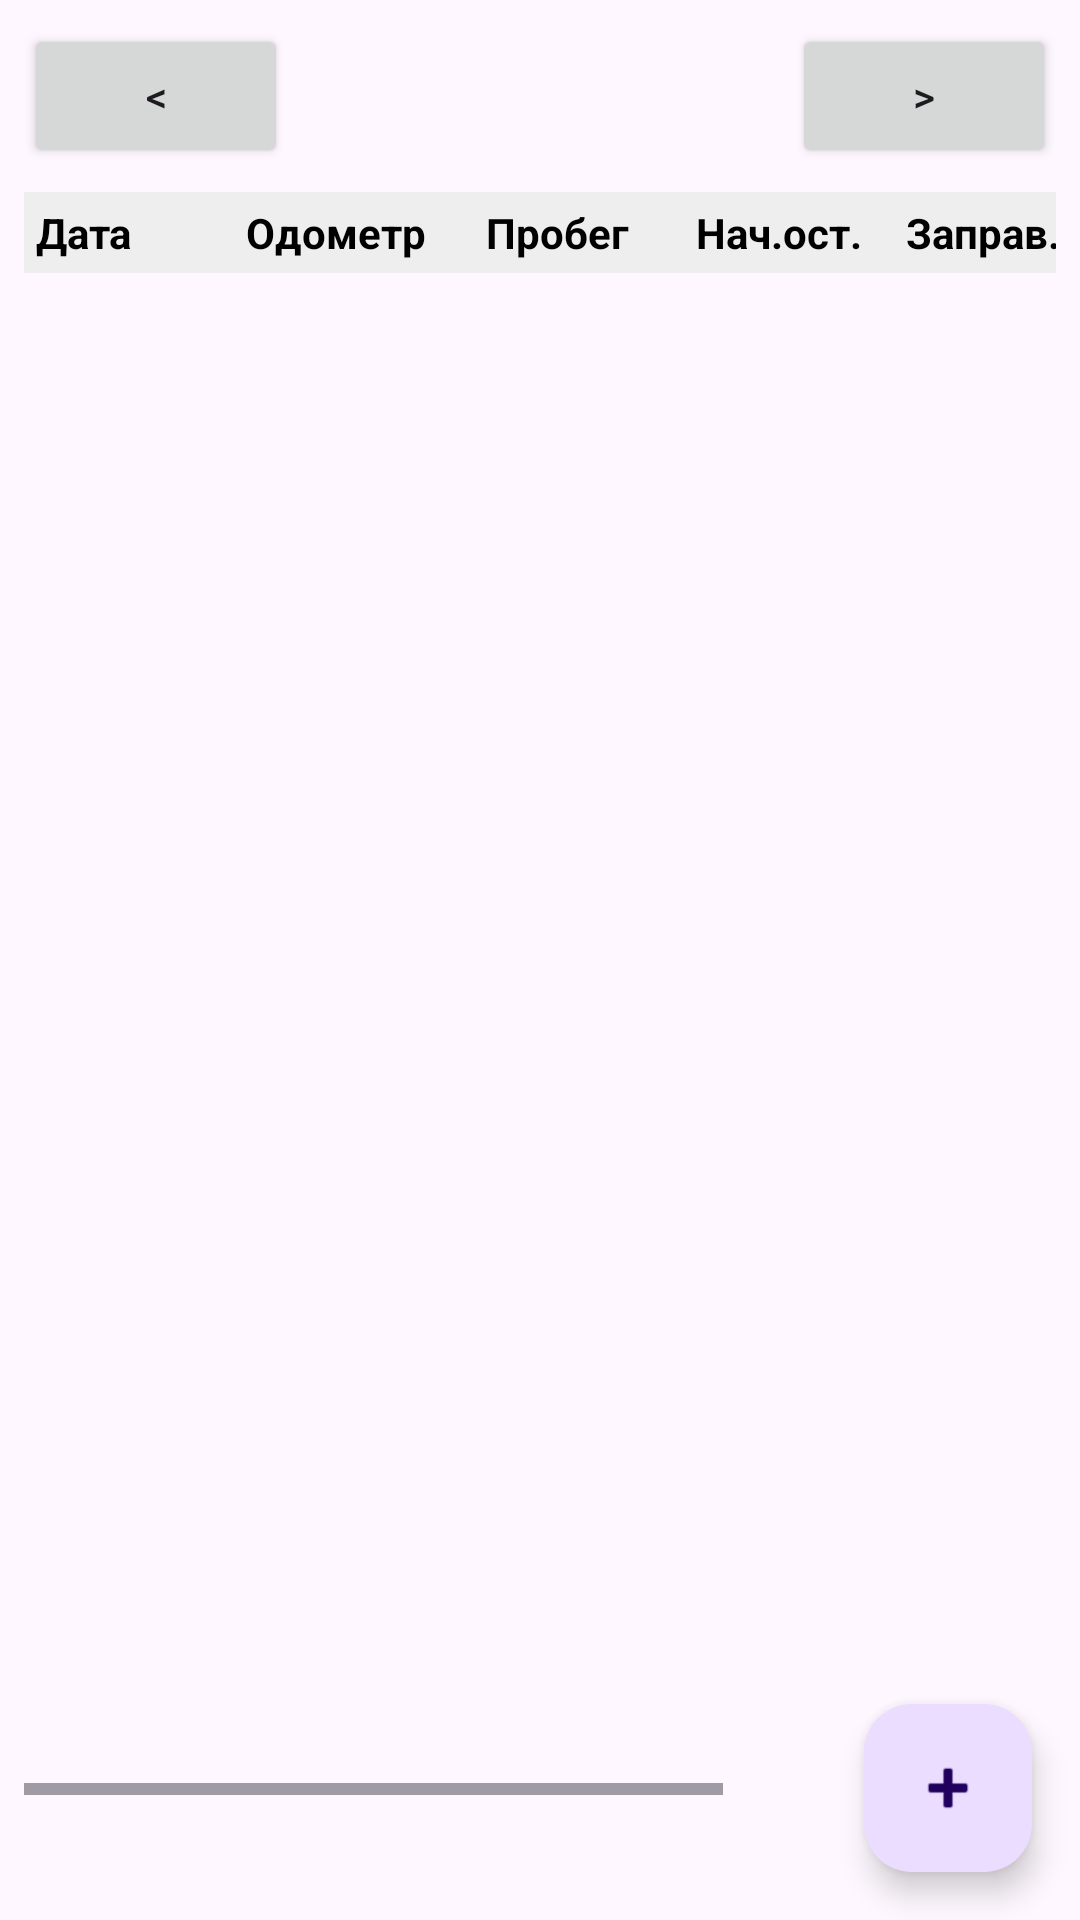

Locate icon controls on the screen. Image size 1080px x 1920px, boxes as [x1,y1,x2,y2].
+ День: [864,1704,1032,1872]
